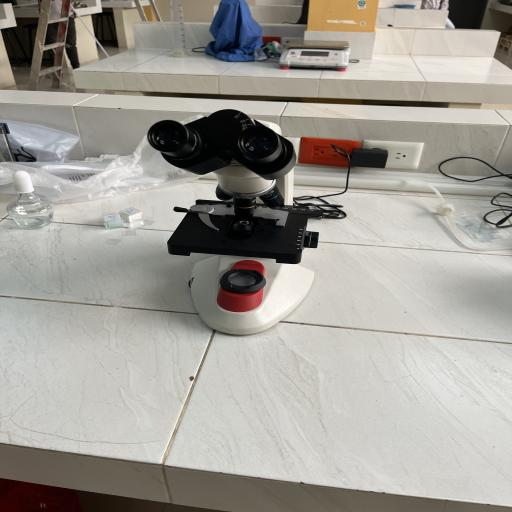Microscopio_Binocular: (121, 99, 373, 351)
